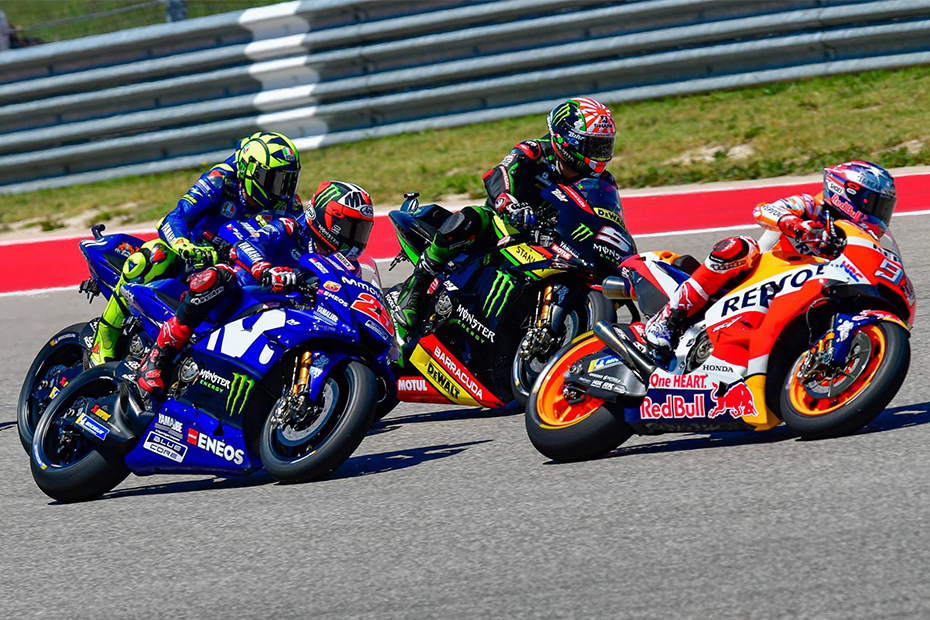helmet: (543, 97, 617, 171), (233, 126, 299, 208), (233, 126, 298, 208)
